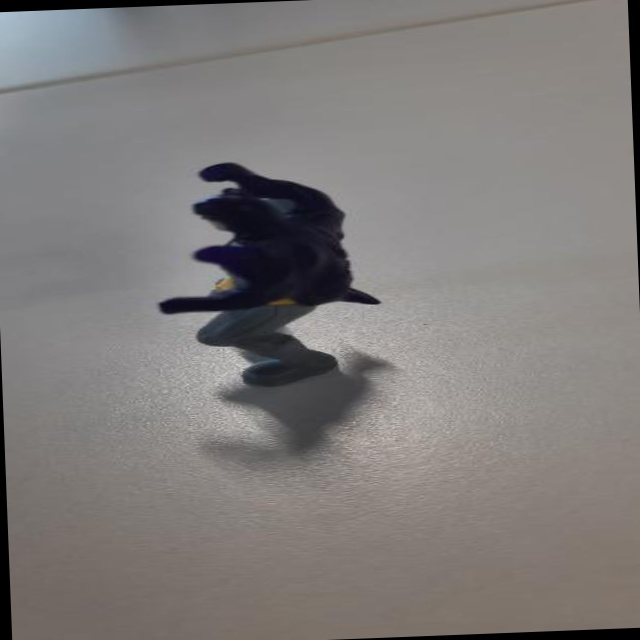Batman: (132, 150, 394, 414)
